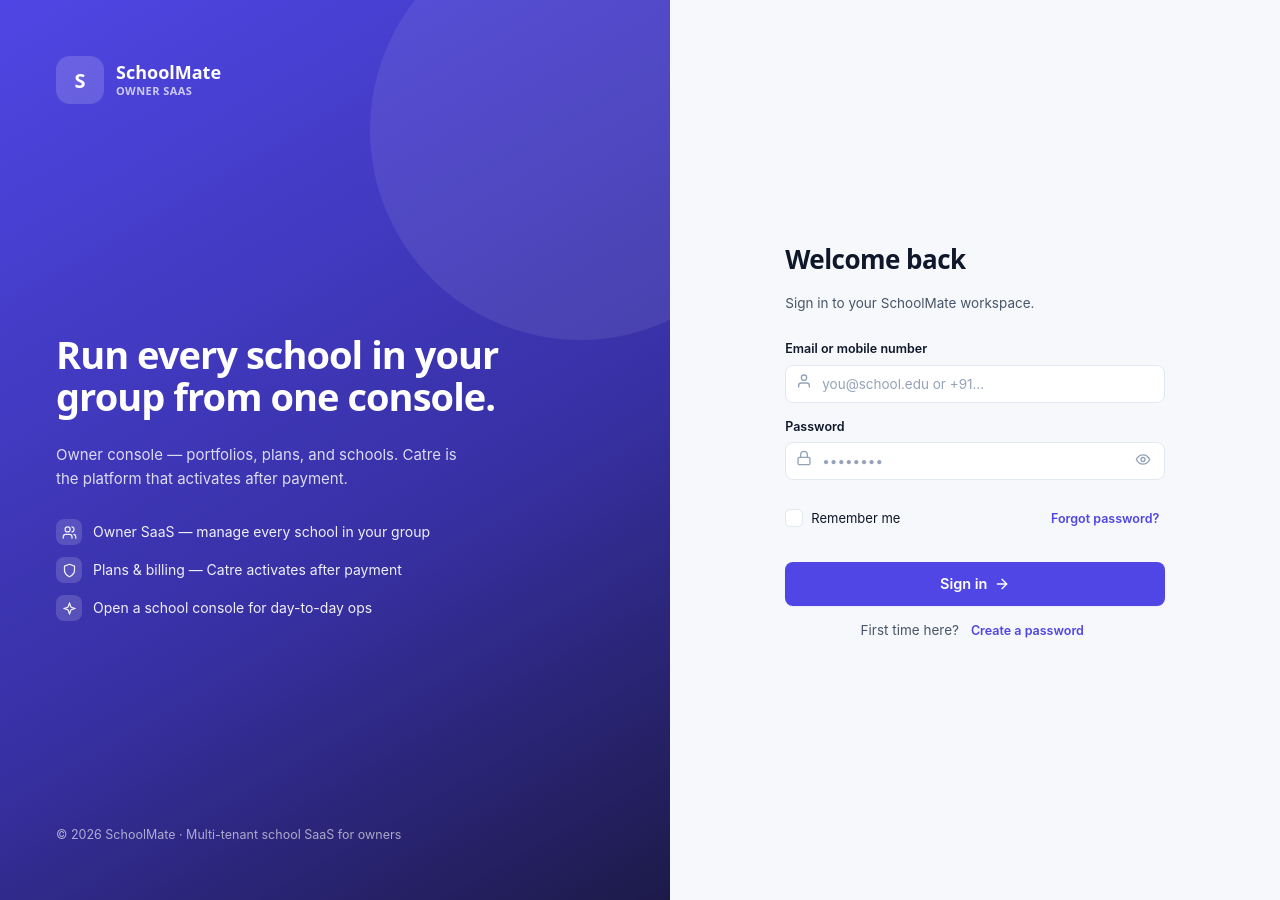
Test: LoginScreen password reset › opens the reset panel from the Forgot password link
This screenshot has width=1280, height=900.
Click the button "Forgot password?" at (1105, 518), box [1045, 510, 1165, 527]
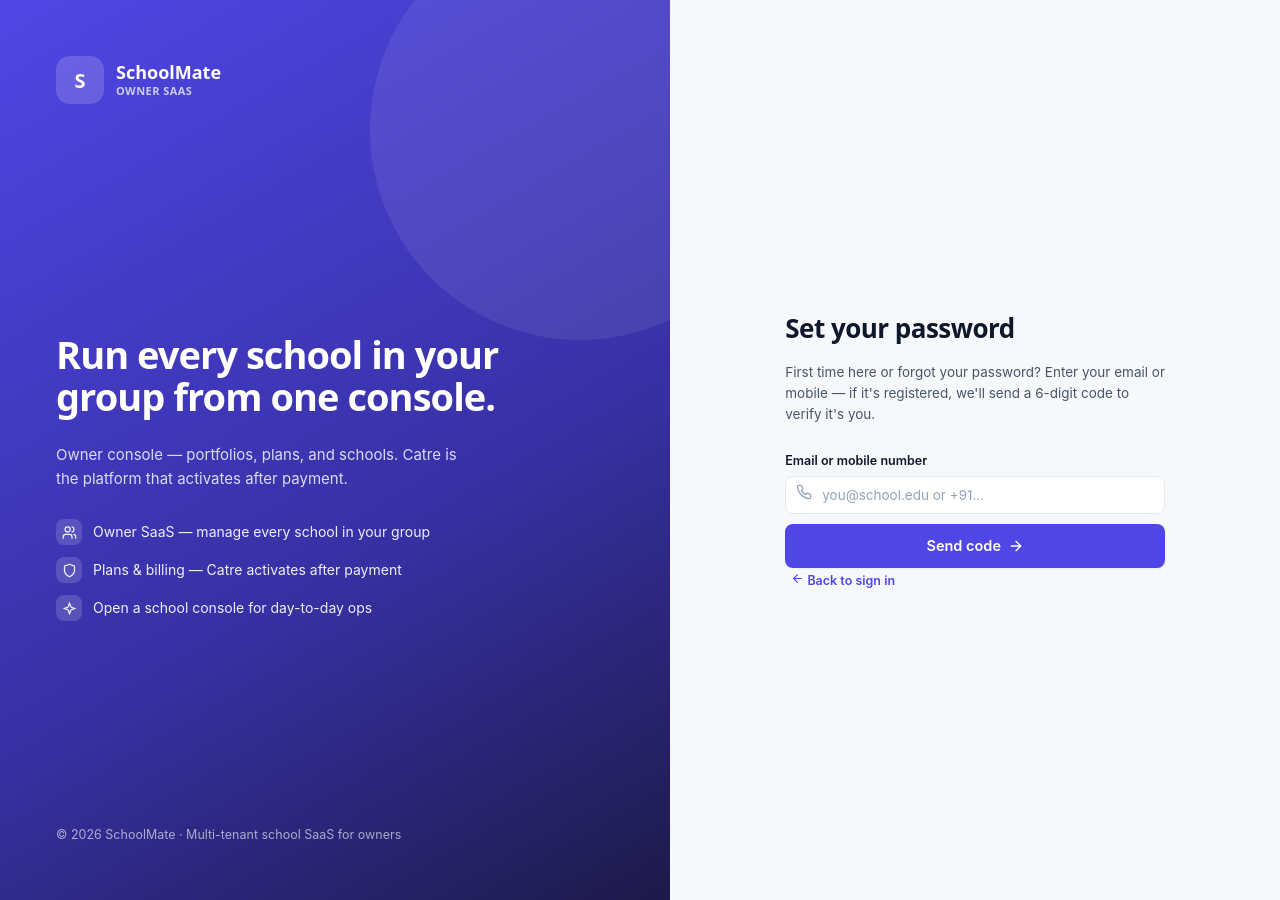
Now the heading "Set your password" is shown, box [785, 310, 1015, 346]
Now the field with placeholder "you@school.edu or +91…" is shown, box [785, 476, 1165, 514]
